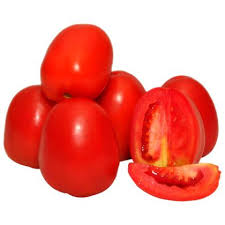tomato: (39, 97, 121, 197), (41, 17, 114, 98)
